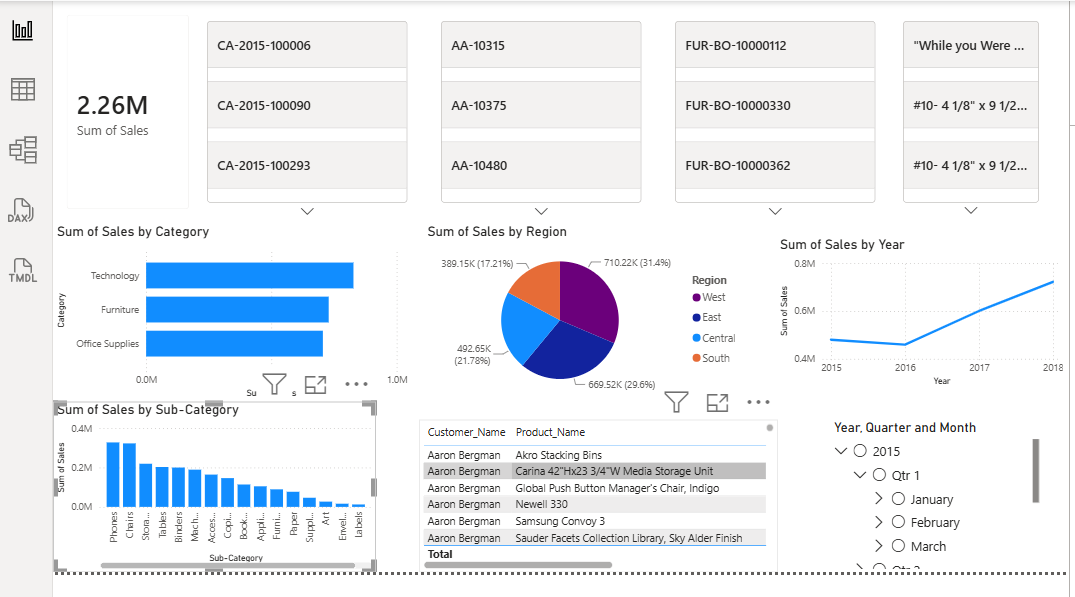

What the dashboard file says about the page in this screenshot:
{"tool":"powerbi","page":{"name":"Page 1","canvas":[1280,720],"ordinal":0},"visuals":[{"type":"cardVisual","fields":{"Data":["Sum(Cleaned_Sales_Data.Sales)"]},"box":[0,0,189,279.7],"z":0},{"type":"cardVisual","fields":{"Rows":["Cleaned_Sales_Data.Order_ID","Cleaned_Sales_Data.Order_ID"]},"box":[189,0,262.7,281.6],"z":1000},{"type":"cardVisual","fields":{"Rows":["Cleaned_Sales_Data.Customer_ID"]},"box":[483.8,0,262.7,281.6],"z":2000},{"type":"cardVisual","fields":{"Rows":["Cleaned_Sales_Data.Product_ID"]},"box":[778.6,0,262.7,281.6],"z":3000},{"type":"cardVisual","fields":{"Rows":["Cleaned_Sales_Data.Product_Name"]},"box":[1065.8,0,181.4,279.7],"z":4000},{"type":"clusteredBarChart","fields":{"Category":["Cleaned_Sales_Data.Category"],"Y":["Sum(Cleaned_Sales_Data.Sales)"]},"box":[0,279.7,451.7,224.9],"z":5000},{"type":"pieChart","fields":{"Category":["Cleaned_Sales_Data.Region"],"Y":["Sum(Cleaned_Sales_Data.Sales)"]},"box":[466.8,279.7,408.2,224.9],"z":6000},{"type":"lineChart","fields":{"Category":["Cleaned_Sales_Data.Order_Date.Variation.Date Hierarchy.Year","Cleaned_Sales_Data.Order_Date.Variation.Date Hierarchy.Quarter","Cleaned_Sales_Data.Order_Date.Variation.Date Hierarchy.Month","Cleaned_Sales_Data.Order_Date.Variation.Date Hierarchy.Day"],"Y":["Sum(Cleaned_Sales_Data.Sales)"]},"box":[910.9,296.7,366.6,192.8],"z":7000},{"type":"clusteredColumnChart","fields":{"Category":["Cleaned_Sales_Data.Sub-Category"],"Y":["Sum(Cleaned_Sales_Data.Sales)"]},"box":[0,504.6,406.3,215.4],"z":8000},{"type":"tableEx","fields":{"Values":["Cleaned_Sales_Data.Customer_Name","Cleaned_Sales_Data.Product_Name","Cleaned_Sales_Data.Region","Cleaned_Sales_Data.Category","Sum(Cleaned_Sales_Data.Sales)"]},"box":[461.1,527.2,451.7,192.8],"z":9000},{"type":"listSlicer","fields":{"Values":["Cleaned_Sales_Data.Order_Date.Variation.Date Hierarchy.Year","Cleaned_Sales_Data.Order_Date.Variation.Date Hierarchy.Quarter","Cleaned_Sales_Data.Order_Date.Variation.Date Hierarchy.Month","Cleaned_Sales_Data.Order_Date.Variation.Date Hierarchy.Day","Cleaned_Sales_Data.Category","Cleaned_Sales_Data.Segment","Cleaned_Sales_Data.Ship_Date.Variation.Date Hierarchy.Year","Cleaned_Sales_Data.Ship_Date.Variation.Date Hierarchy.Quarter","Cleaned_Sales_Data.Ship_Date.Variation.Date Hierarchy.Month","Cleaned_Sales_Data.Ship_Date.Variation.Date Hierarchy.Day"]},"box":[913,527,365,193],"z":9001}]}

Visuals, with their boxes on the page's 1280x720 design canvas (x1, y1, x2, y2). These are canvas units, not pixel positions in the 1075x597 screenshot, which may show the page scaled, cropped or inside an application window:
cardVisual - Sum(Cleaned_Sales_Data.Sales): BBox(0, 0, 189, 280)
cardVisual - Cleaned_Sales_Data.Order_ID x Cleaned_Sales_Data.Order_ID: BBox(189, 0, 452, 282)
cardVisual - Cleaned_Sales_Data.Customer_ID: BBox(484, 0, 746, 282)
cardVisual - Cleaned_Sales_Data.Product_ID: BBox(779, 0, 1041, 282)
cardVisual - Cleaned_Sales_Data.Product_Name: BBox(1066, 0, 1247, 280)
clusteredBarChart - Cleaned_Sales_Data.Category x Sum(Cleaned_Sales_Data.Sales): BBox(0, 280, 452, 505)
pieChart - Cleaned_Sales_Data.Region x Sum(Cleaned_Sales_Data.Sales): BBox(467, 280, 875, 505)
lineChart - Cleaned_Sales_Data.Order_Date.Variation.Date Hierarchy.Year x Cleaned_Sales_Data.Order_Date.Variation.Date Hierarchy.Quarter: BBox(911, 297, 1278, 490)
clusteredColumnChart - Cleaned_Sales_Data.Sub-Category x Sum(Cleaned_Sales_Data.Sales): BBox(0, 505, 406, 720)
tableEx - Cleaned_Sales_Data.Customer_Name x Cleaned_Sales_Data.Product_Name: BBox(461, 527, 913, 720)
listSlicer - Cleaned_Sales_Data.Order_Date.Variation.Date Hierarchy.Year x Cleaned_Sales_Data.Order_Date.Variation.Date Hierarchy.Quarter: BBox(913, 527, 1278, 720)
